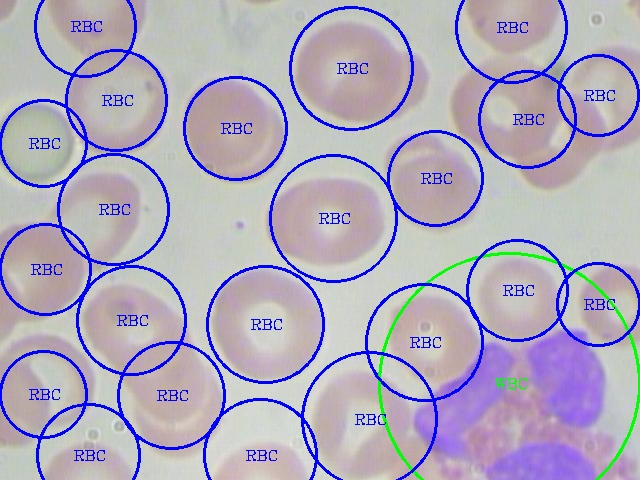RBC: (202, 261, 332, 382), (56, 40, 176, 157), (259, 169, 389, 268), (285, 13, 403, 122), (441, 53, 563, 158), (177, 72, 290, 185), (301, 366, 414, 477), (75, 278, 193, 378), (38, 163, 149, 269), (1, 328, 102, 435), (125, 363, 230, 462), (508, 92, 608, 194), (380, 288, 482, 383), (0, 215, 89, 322), (469, 249, 567, 340), (558, 40, 638, 151), (386, 145, 486, 233), (41, 0, 151, 55), (574, 258, 638, 348), (462, 0, 562, 57), (0, 354, 55, 450)
WBC: (405, 331, 626, 477)
